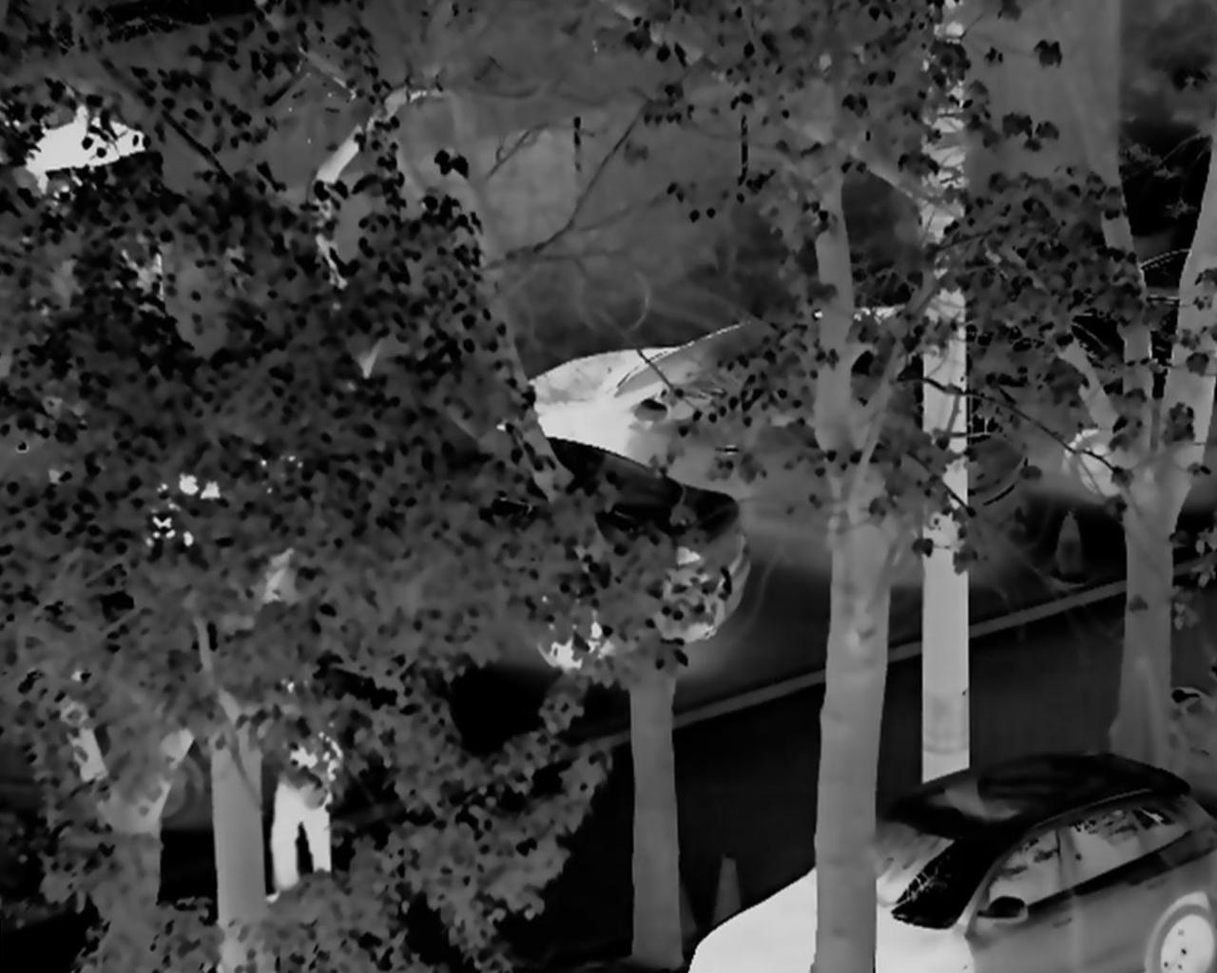person: (262, 696, 337, 901)
